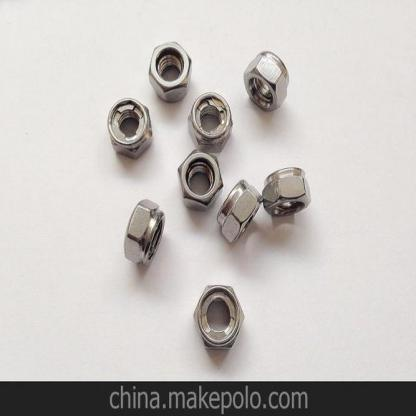FOD: (191, 281, 246, 354), (122, 193, 167, 272), (174, 149, 226, 211), (217, 177, 263, 246), (242, 48, 290, 114), (261, 164, 315, 217), (188, 92, 234, 152), (107, 99, 152, 160), (148, 41, 193, 102)
